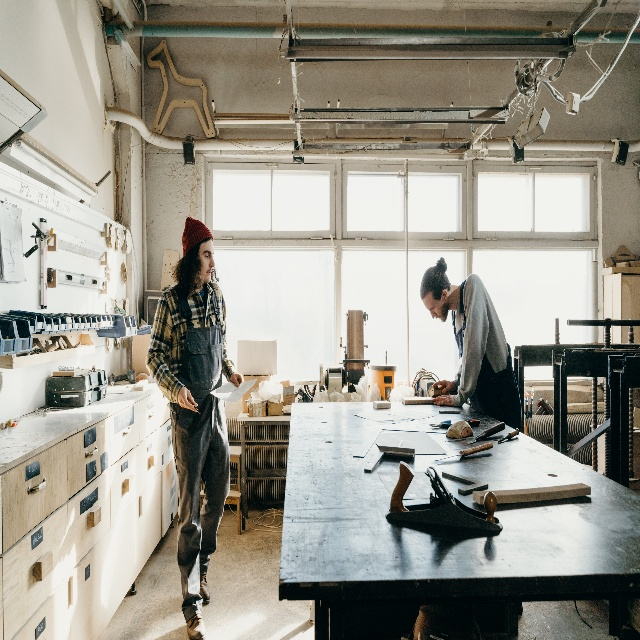Sin_guantes: (178, 386, 198, 411), (432, 377, 457, 392), (432, 393, 454, 406), (230, 370, 244, 387)
